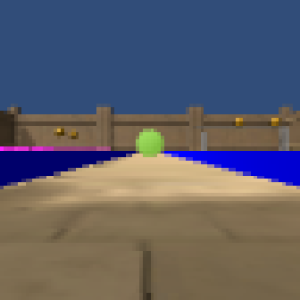goodGoal: (136, 126, 166, 156)
goodGoalMulti: (69, 129, 81, 141), (233, 117, 245, 128), (268, 118, 280, 129), (54, 128, 66, 138)
platform: (1, 150, 141, 193), (163, 150, 300, 192)
ramp: (1, 143, 110, 152)
wall: (278, 125, 290, 151), (200, 131, 209, 150)
